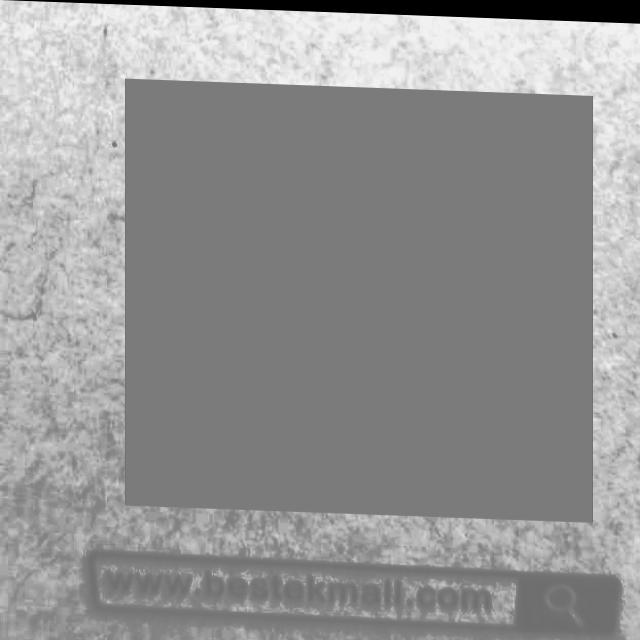qr_code: (126, 78, 592, 517)
